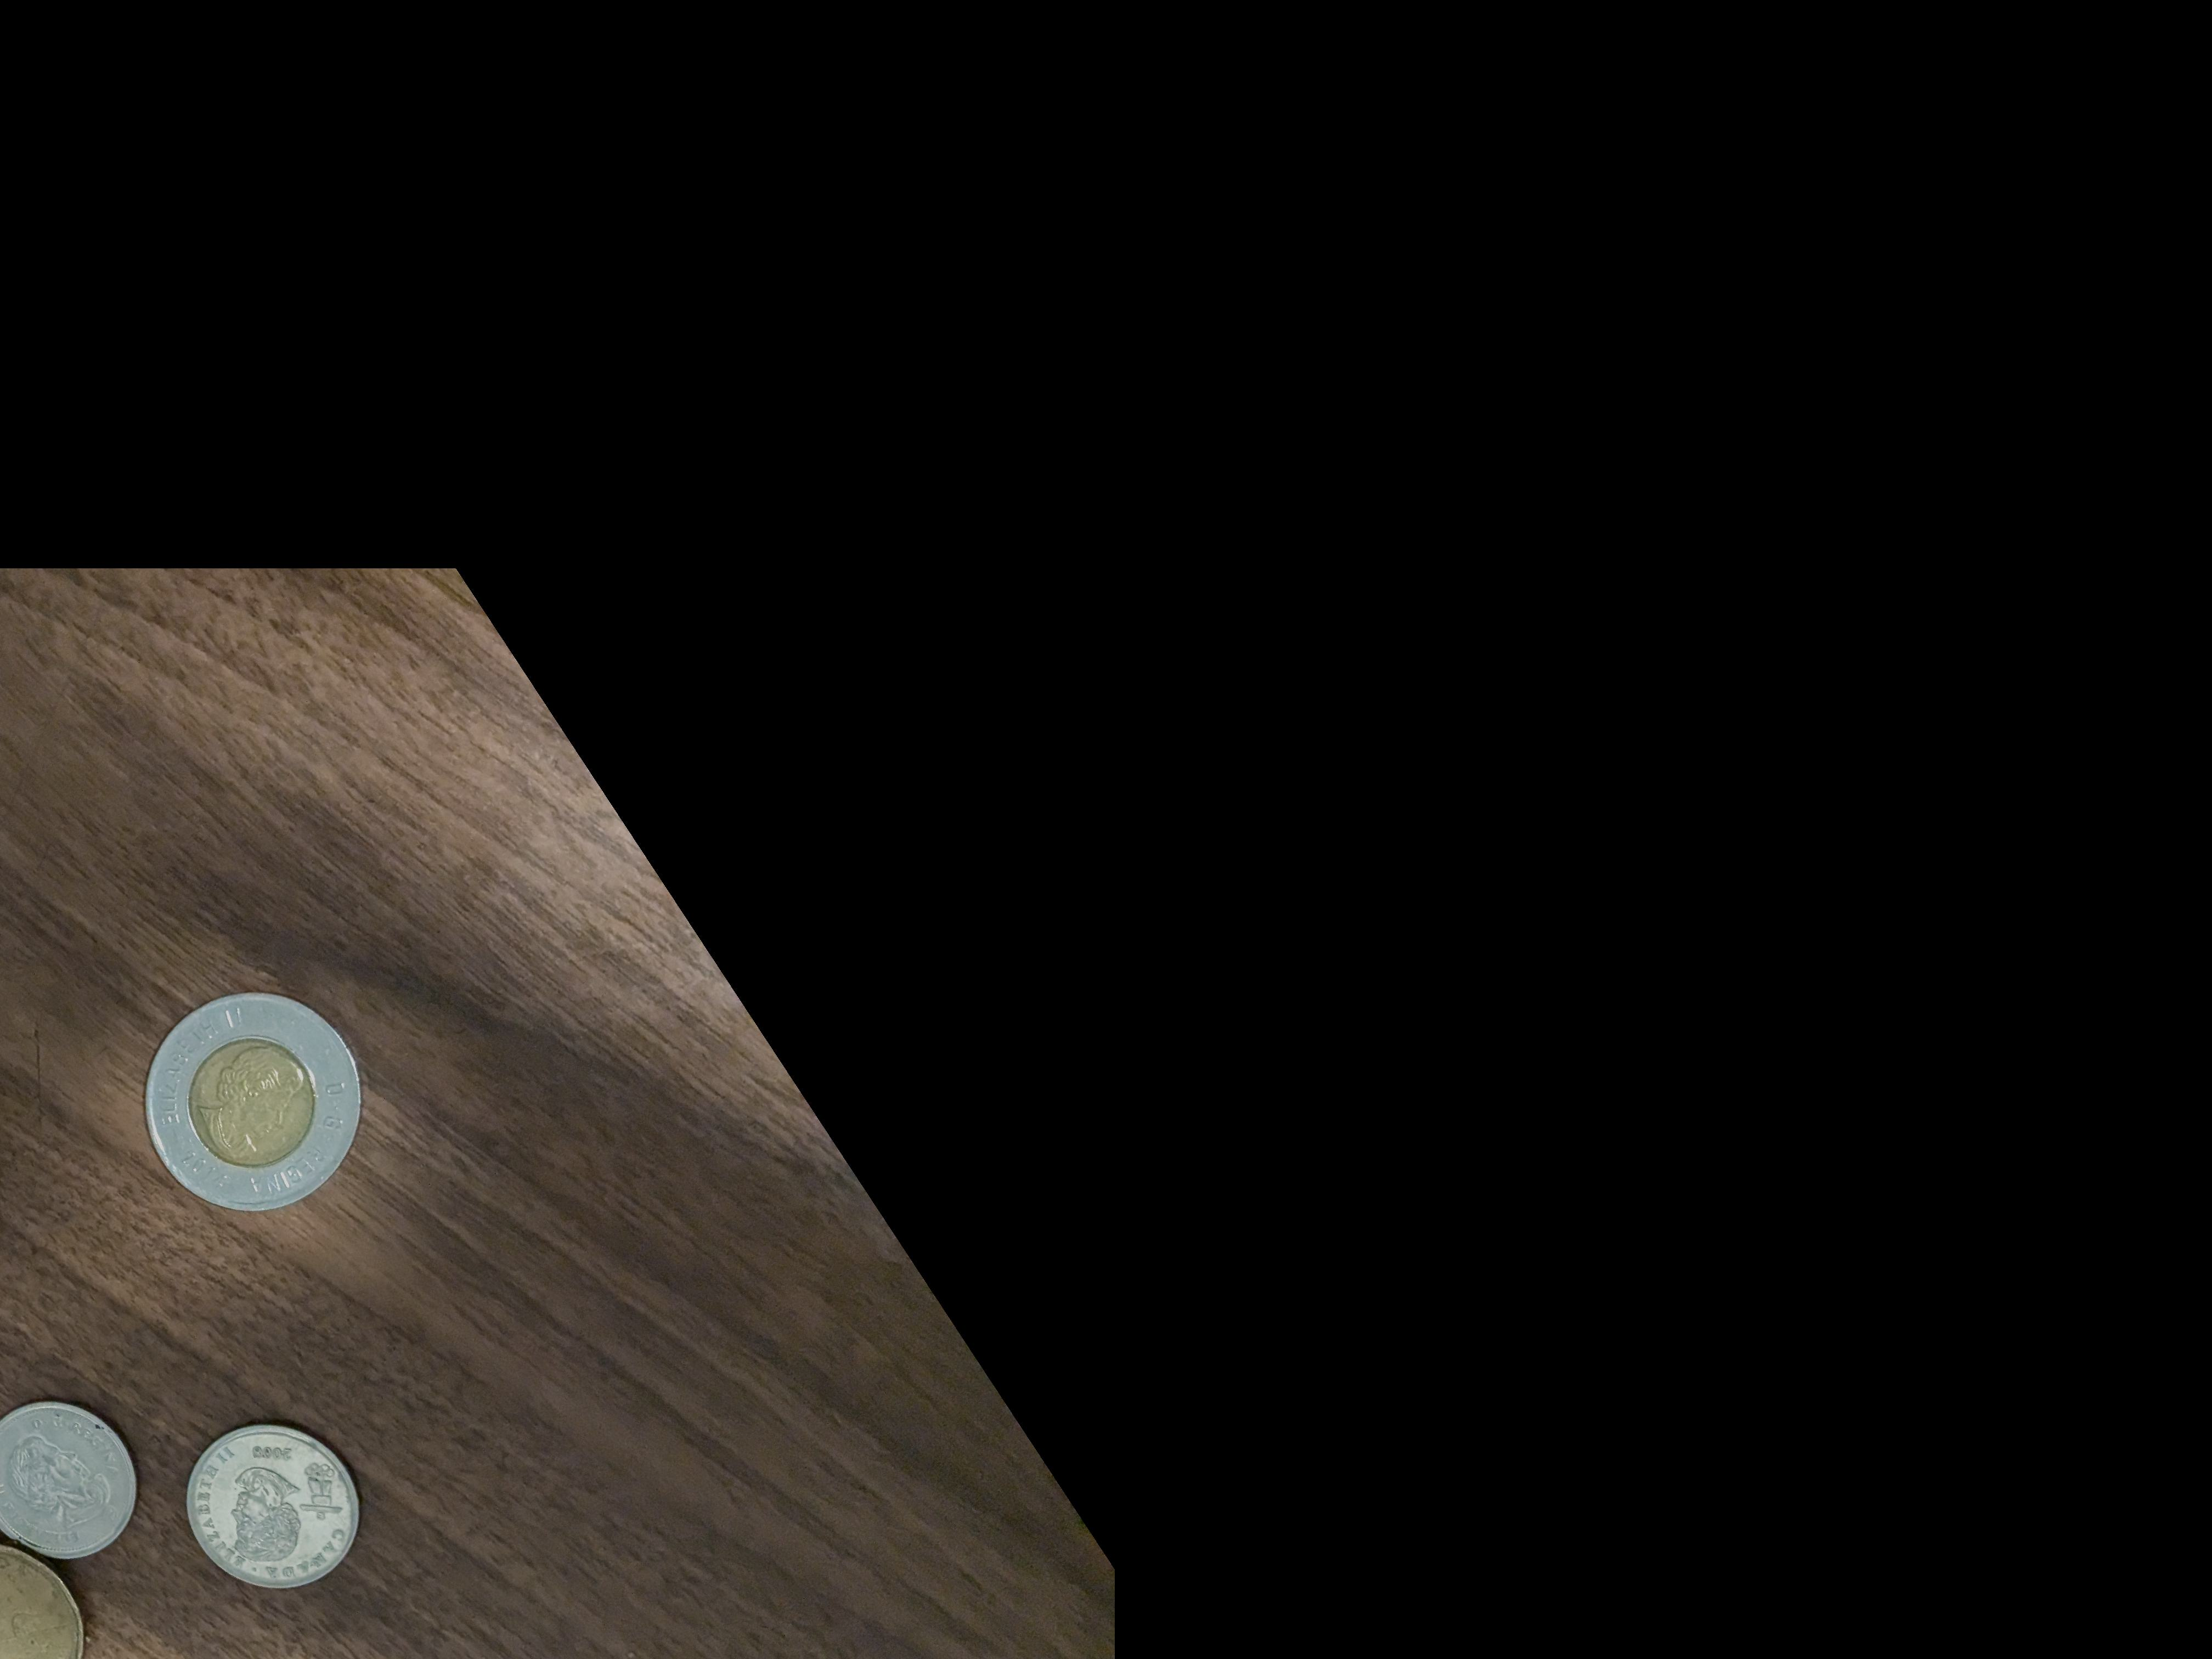loonie: (5, 1542, 89, 1659)
quarter: (188, 1419, 359, 1589), (0, 1399, 141, 1563)
toonie: (143, 993, 366, 1208)
